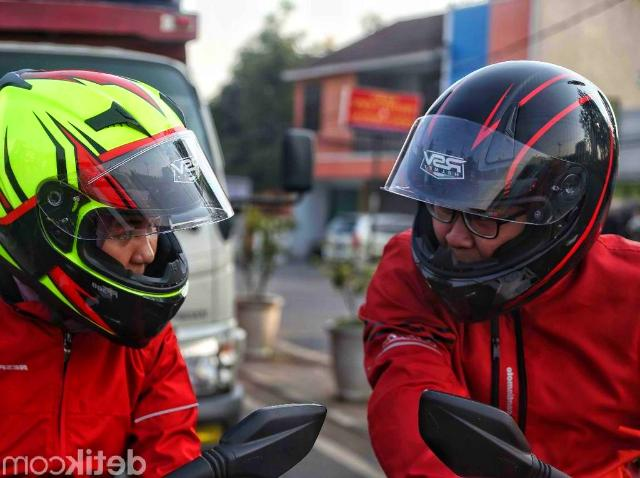helm: (1, 69, 237, 347), (381, 59, 625, 322)
